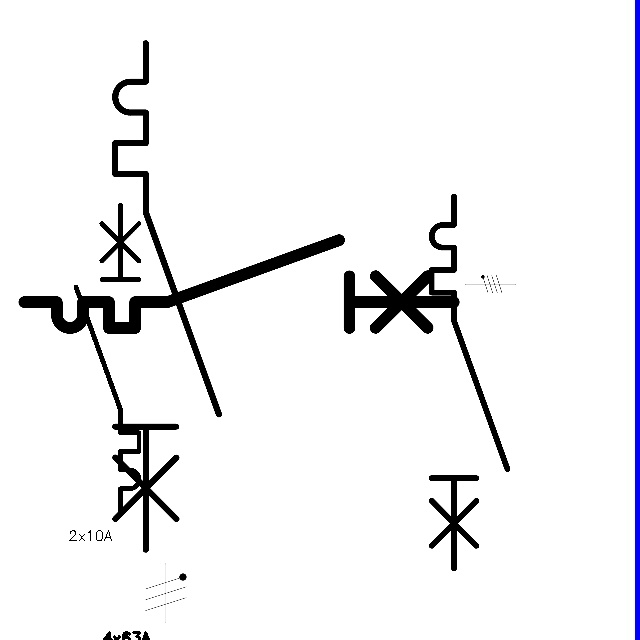interruptor_termomagnetico: (102, 30, 232, 563), (13, 229, 464, 339), (422, 187, 517, 578), (68, 197, 147, 520)
